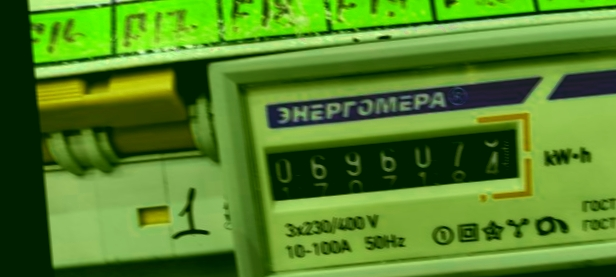0: (271, 151, 294, 183), (411, 135, 433, 167)
4: (479, 145, 501, 175)
6: (305, 147, 329, 179), (376, 140, 398, 170)
7: (446, 133, 466, 165)
9: (342, 145, 362, 175)
screen: (245, 102, 537, 218)
